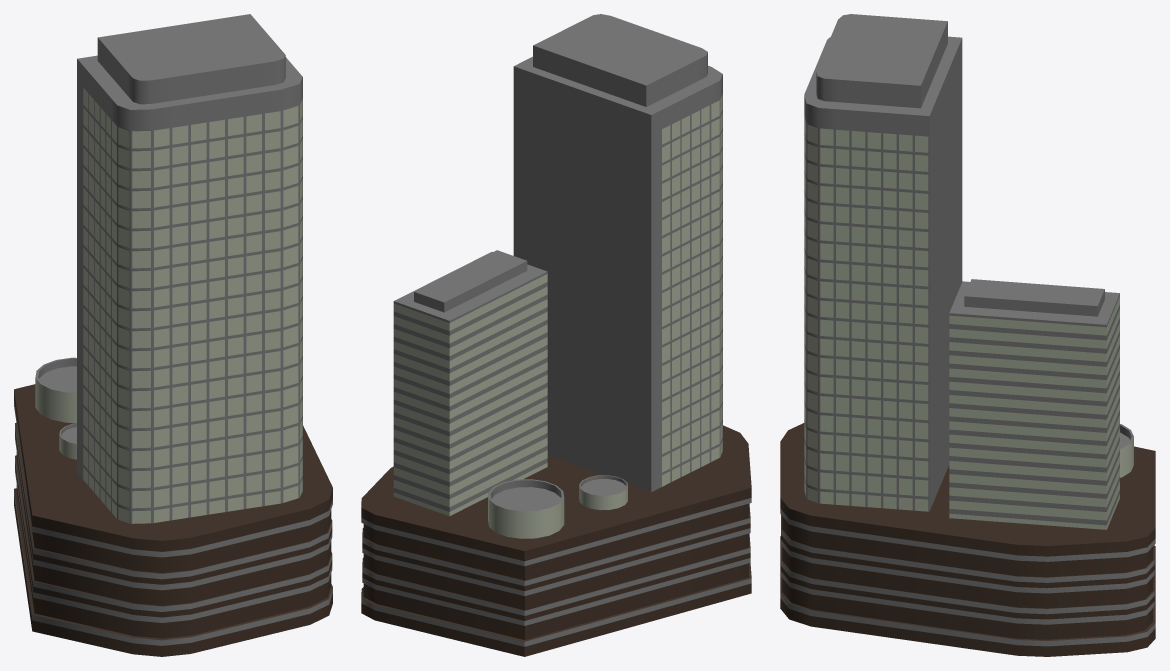
File: building.gltf
3 views of the same model, side by side, from view 1: azimuth 30°, elevation 25°; view 2: azimuth 150°, elevation 25°; view 3: azimuth 270°, elevation 25° (orthographic). The views are drawn at different scales.
Parts seen in each view (by area): view 1: hankyu_0; view 2: hankyu_0; view 3: hankyu_0.
Boxes of the visible parts, x1=… form: hankyu_0: x1=14, y1=14, x2=332, y2=656; hankyu_0: x1=361, y1=14, x2=751, y2=656; hankyu_0: x1=780, y1=14, x2=1155, y2=656.
Size of the model in its own units: 21.59 by 35.76 by 23.01.
